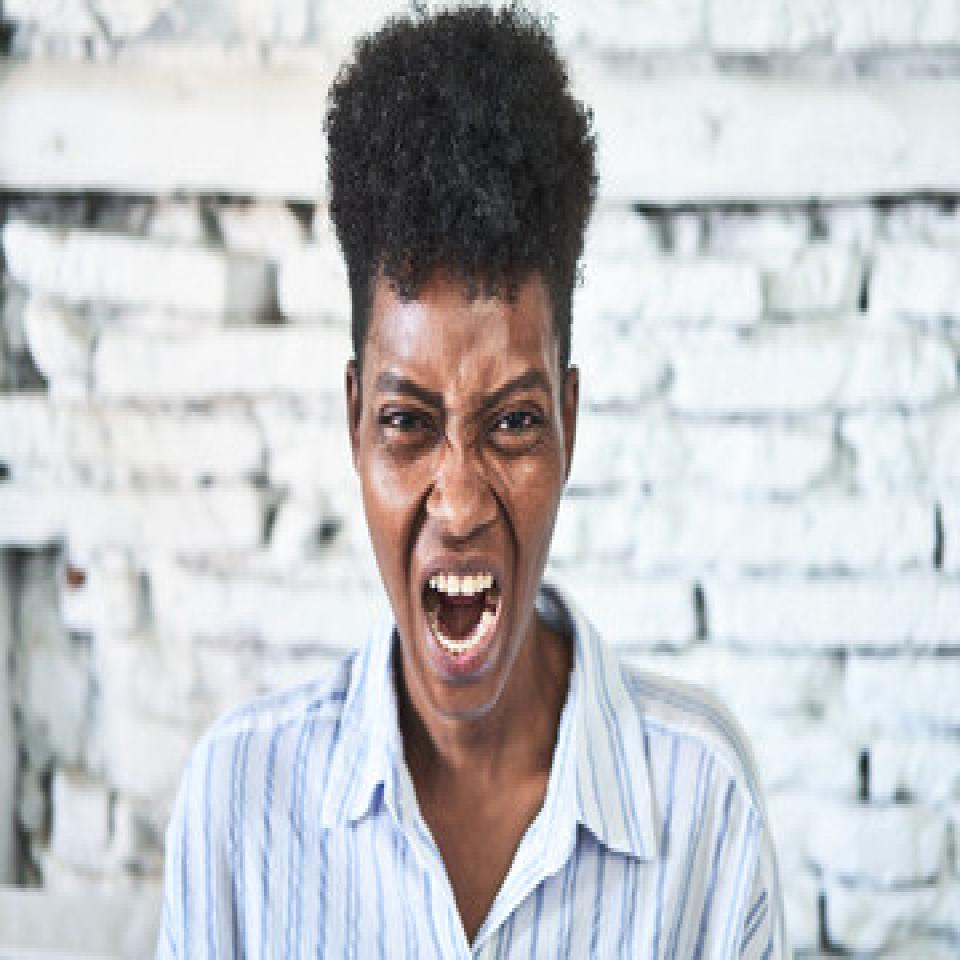Anger: (353, 295, 569, 721)
